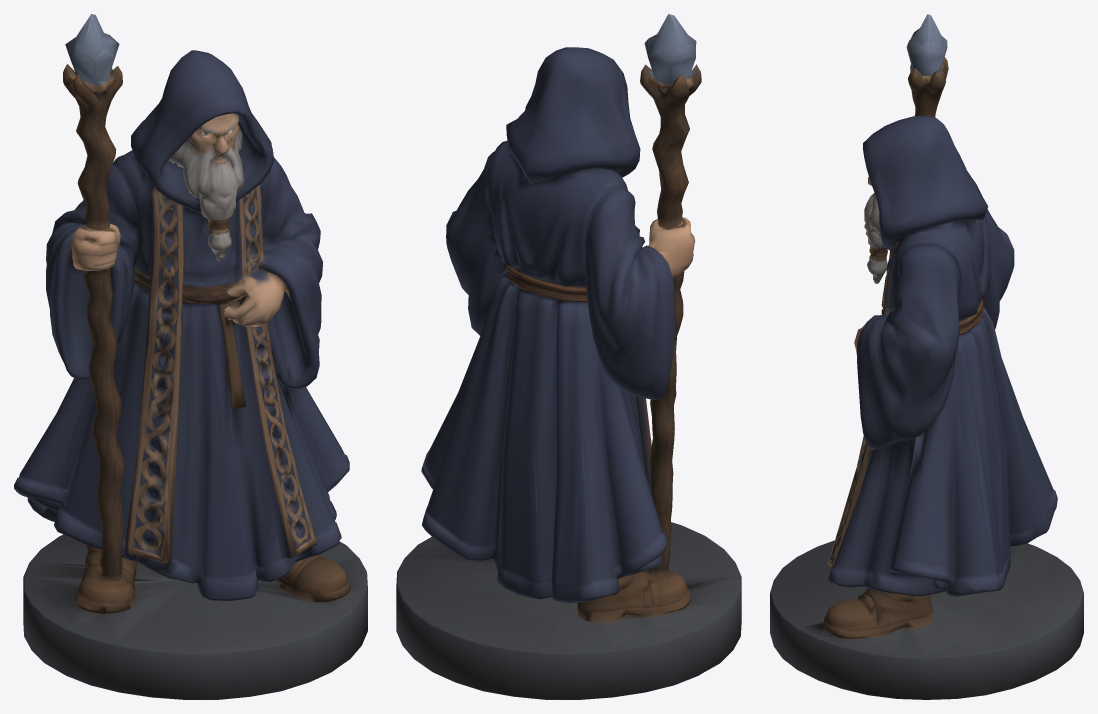
Rendered from merlin-tripo-22cb43f2-smartuv-tex2k.glb.
3 renders of one model, left to right at view 1: azimuth 30°, elevation 25°; view 2: azimuth 150°, elevation 25°; view 3: azimuth 270°, elevation 25°, orthographic. The views are drawn at different scales.
Parts seen in each view (by area): view 1: tripo_node_79c8fb8d-b89e-4923-8552-7d1f5efb1992; view 2: tripo_node_79c8fb8d-b89e-4923-8552-7d1f5efb1992; view 3: tripo_node_79c8fb8d-b89e-4923-8552-7d1f5efb1992.
Part boxes in pixels (bbox=[...]): tripo_node_79c8fb8d-b89e-4923-8552-7d1f5efb1992: bbox=[14, 14, 367, 699]; tripo_node_79c8fb8d-b89e-4923-8552-7d1f5efb1992: bbox=[396, 14, 741, 699]; tripo_node_79c8fb8d-b89e-4923-8552-7d1f5efb1992: bbox=[770, 14, 1083, 699].
Size of the model in its own units: 0.4844 by 0.9783 by 0.4844.
1 material, 1 textured.
